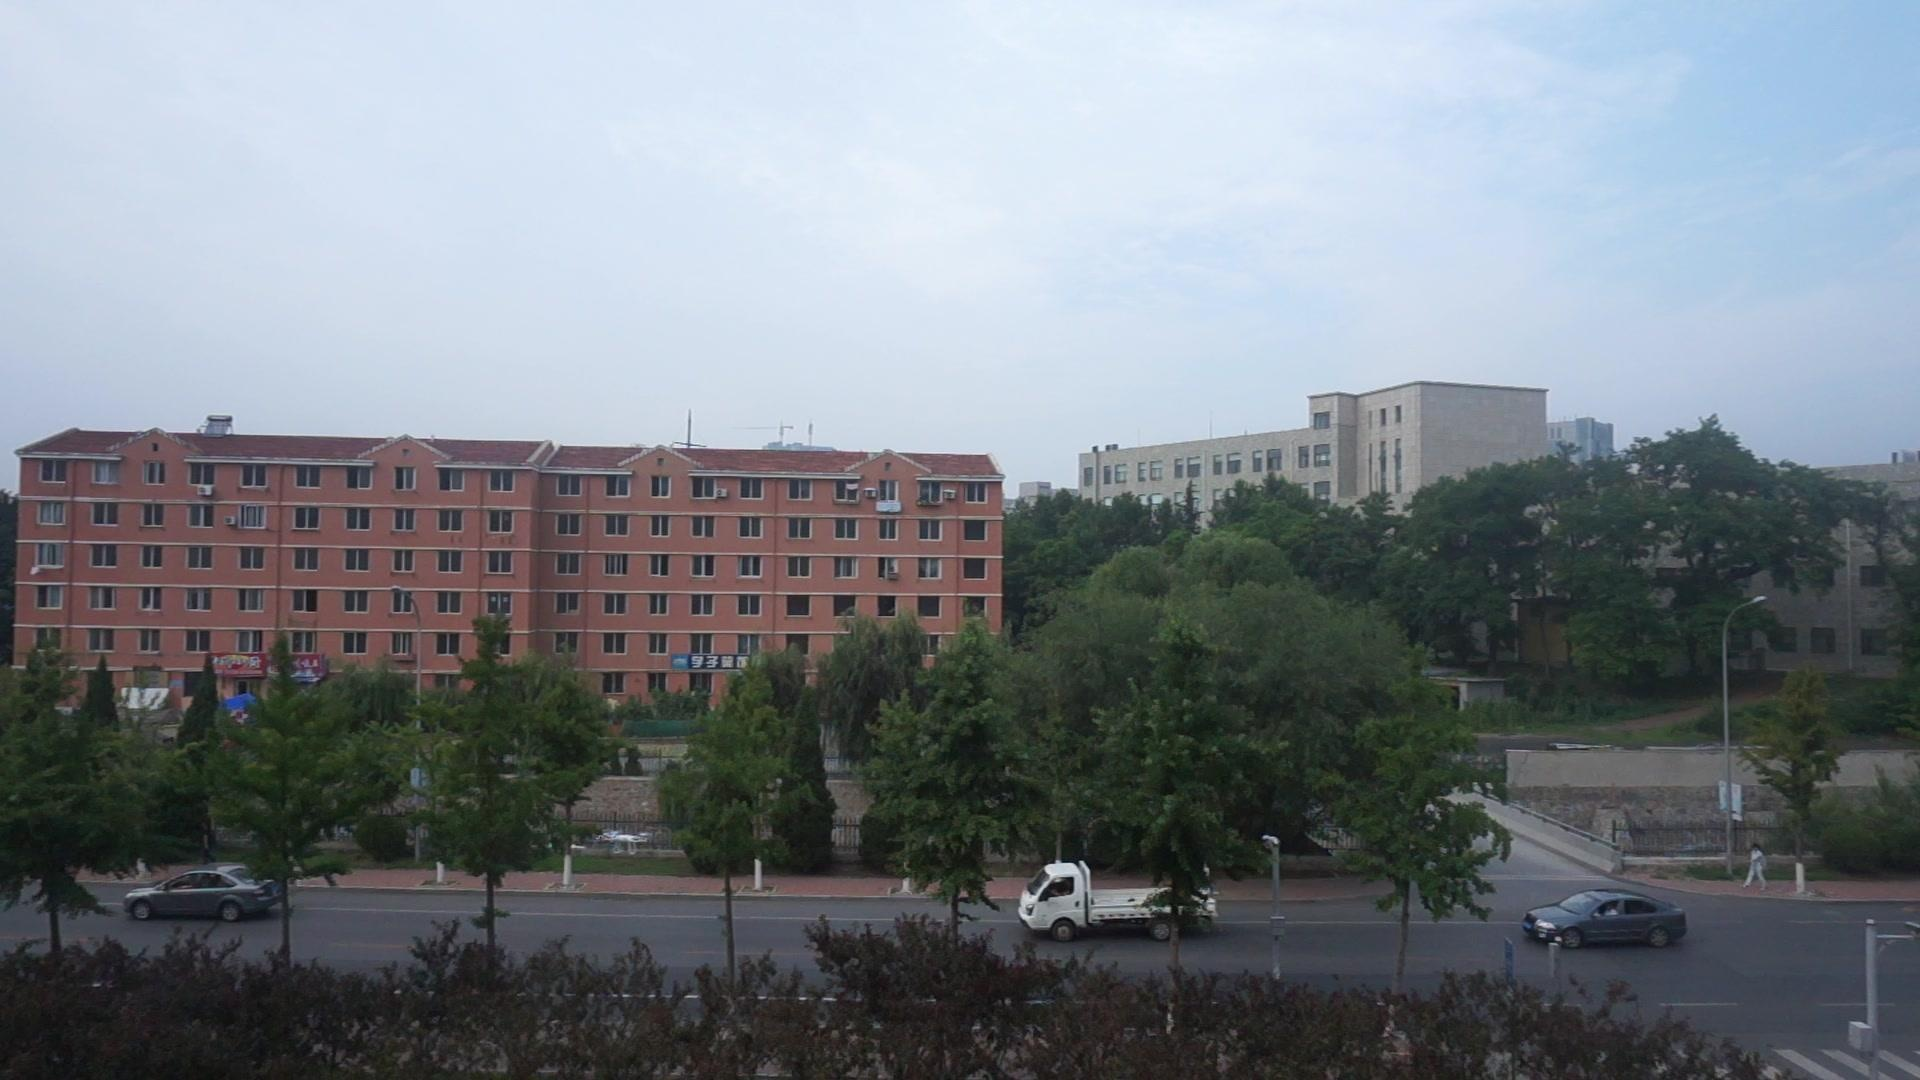UAV: (597, 831, 651, 855)
